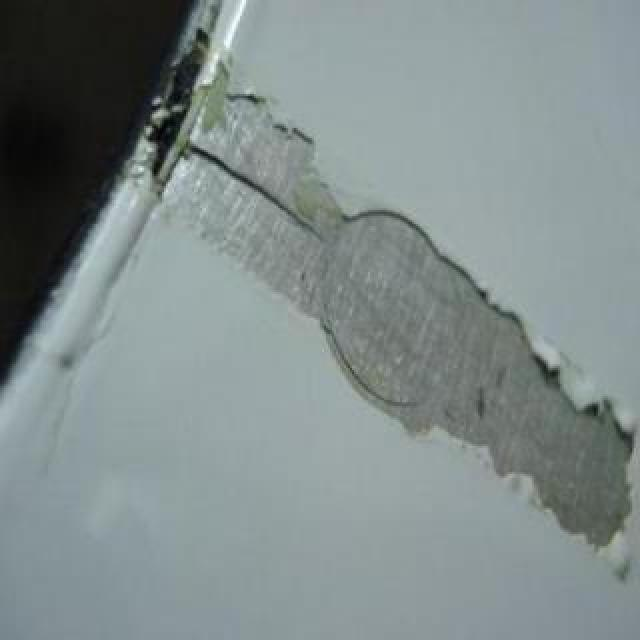crack: (181, 130, 337, 258)
